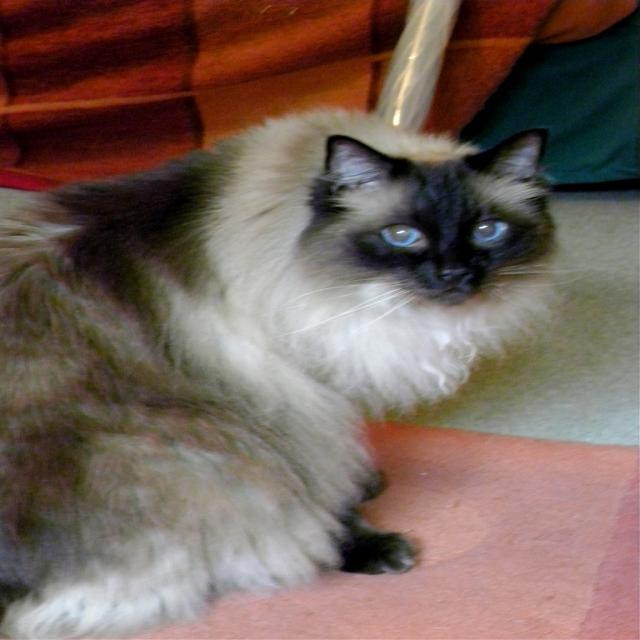Cat: (0, 109, 580, 639)
